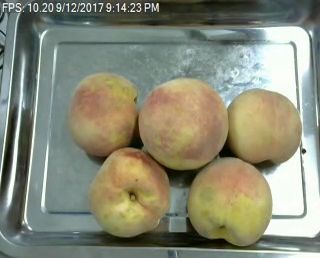Peach: (138, 77, 228, 169), (188, 157, 272, 246), (89, 147, 169, 238), (67, 71, 139, 158), (226, 88, 301, 165)
